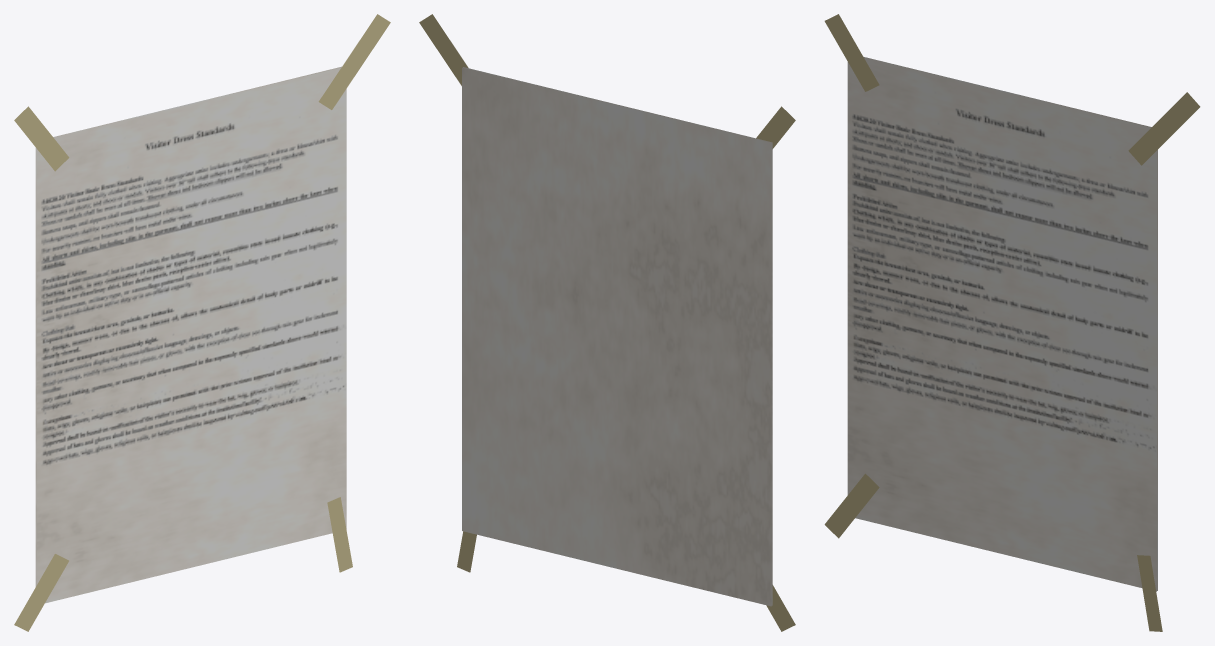
The model's file is SM_Sign_06.fbx.
3 views of the same model, side by side, from view 1: azimuth 30°, elevation 25°; view 2: azimuth 150°, elevation 25°; view 3: azimuth 330°, elevation 25° (orthographic).
Visible parts, largest first — view 1: SM_Sign_06; view 2: SM_Sign_06; view 3: SM_Sign_06.
Boxes of the visible parts, box(x1,y1,x2,y2) form: SM_Sign_06: box(14, 14, 390, 631); SM_Sign_06: box(419, 14, 795, 631); SM_Sign_06: box(824, 14, 1200, 631).
Size of the model in its own units: 42.55 by 0.2507 by 59.3.
Materials: 1 (1 with a texture image).
